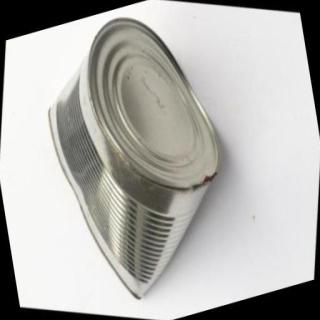METAL: (45, 16, 222, 302)
